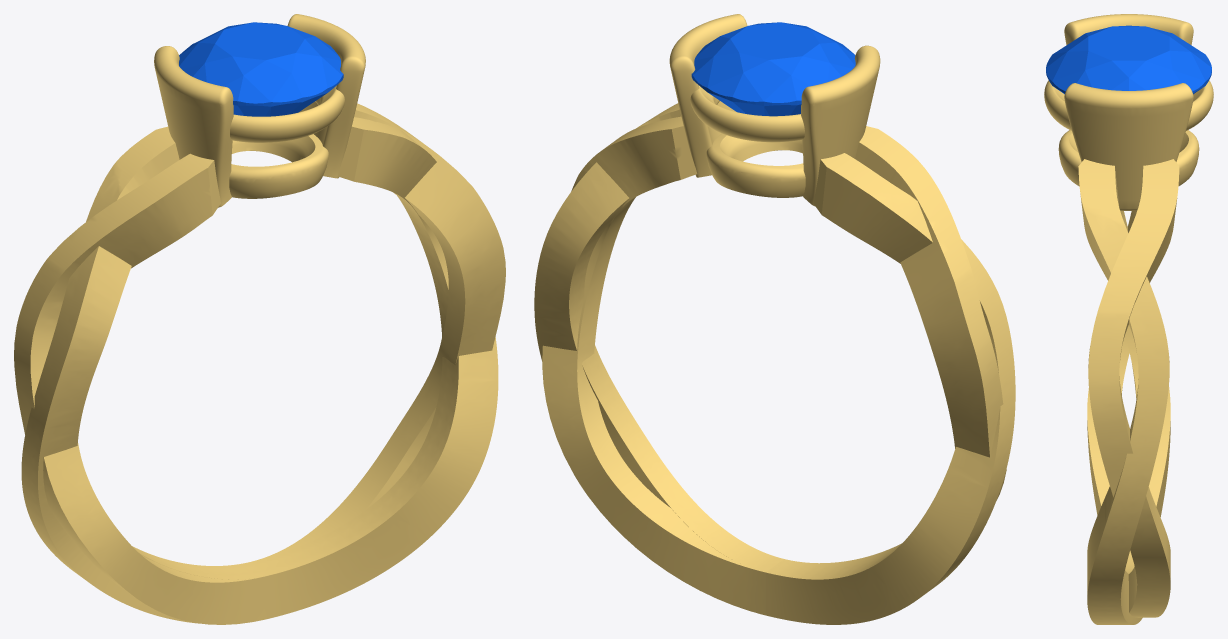
Rendered from bluesapphire-round-yellowgold-halfmoonbezel-twist-nosidestones.glb.
3 views of the same model, side by side, from view 1: azimuth 30°, elevation 25°; view 2: azimuth 150°, elevation 25°; view 3: azimuth 270°, elevation 25° (orthographic). The views are drawn at different scales.
Parts seen in each view (by area): view 1: metal.003, stone; view 2: metal.003, stone; view 3: metal.003, stone.
Part boxes in pixels (box(x1,y1,x2,y2)): metal.003: box(14, 14, 505, 624); stone: box(179, 22, 343, 116); metal.003: box(534, 14, 1015, 624); stone: box(691, 22, 855, 116); metal.003: box(1044, 14, 1213, 624); stone: box(1046, 25, 1211, 94).
Size of the model in its own units: 19.97 by 23.72 by 6.58.
